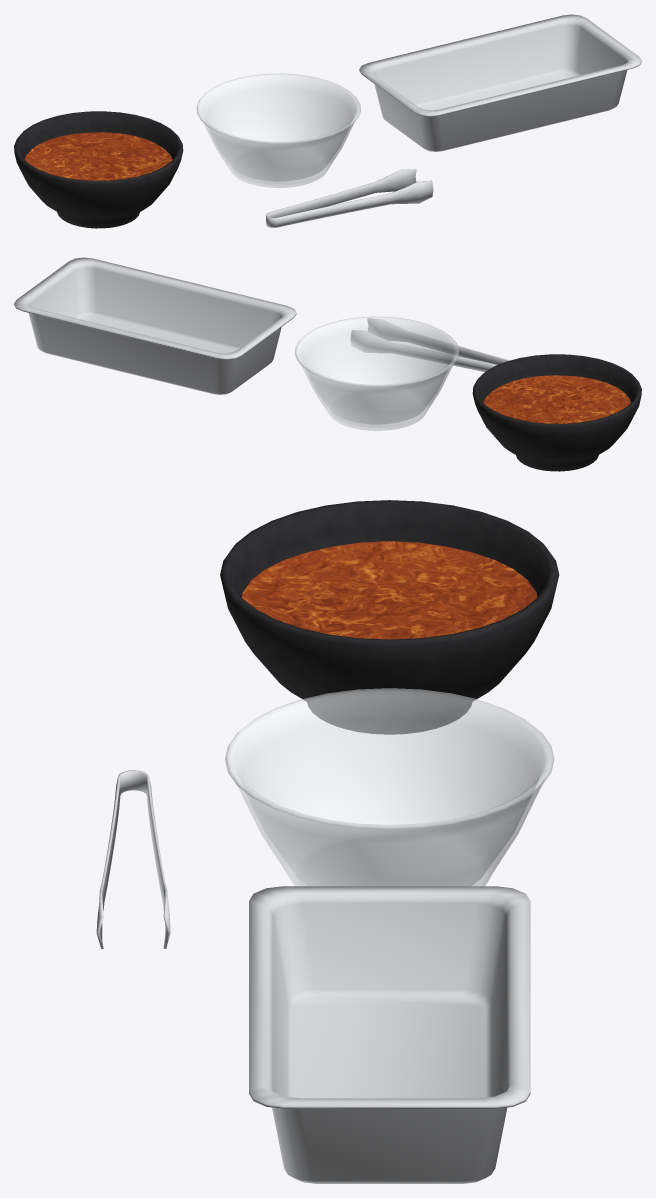
The model's file is Phase0_Props.glb.
3 renders of one model, top to bottom at view 1: azimuth 30°, elevation 25°; view 2: azimuth 150°, elevation 25°; view 3: azimuth 270°, elevation 25°, orthographic. The views are drawn at different scales.
Visible parts, largest first — view 1: DisplayTray, PickBowl, MalaBowl, MalaBowl_Soup, Tongs; view 2: DisplayTray, PickBowl, MalaBowl, MalaBowl_Soup, Tongs; view 3: DisplayTray, PickBowl, MalaBowl, MalaBowl_Soup, Tongs.
Part boxes in pixels (x1=…): DisplayTray: x1=359, y1=14, x2=641, y2=151; PickBowl: x1=196, y1=73, x2=360, y2=187; MalaBowl: x1=14, y1=111, x2=183, y2=228; MalaBowl_Soup: x1=24, y1=132, x2=172, y2=180; Tongs: x1=266, y1=169, x2=433, y2=227; DisplayTray: x1=14, y1=257, x2=296, y2=394; PickBowl: x1=295, y1=316, x2=459, y2=430; MalaBowl: x1=472, y1=354, x2=641, y2=471; MalaBowl_Soup: x1=483, y1=375, x2=631, y2=423; Tongs: x1=350, y1=318, x2=510, y2=371; DisplayTray: x1=249, y1=886, x2=530, y2=1183; PickBowl: x1=225, y1=688, x2=554, y2=886; MalaBowl: x1=220, y1=500, x2=559, y2=734; MalaBowl_Soup: x1=241, y1=541, x2=537, y2=639; Tongs: x1=96, y1=770, x2=170, y2=948.
Size of the model in its own units: 0.8485 by 0.0891 by 0.2891.
Materials: 5 (4 with a texture image).
